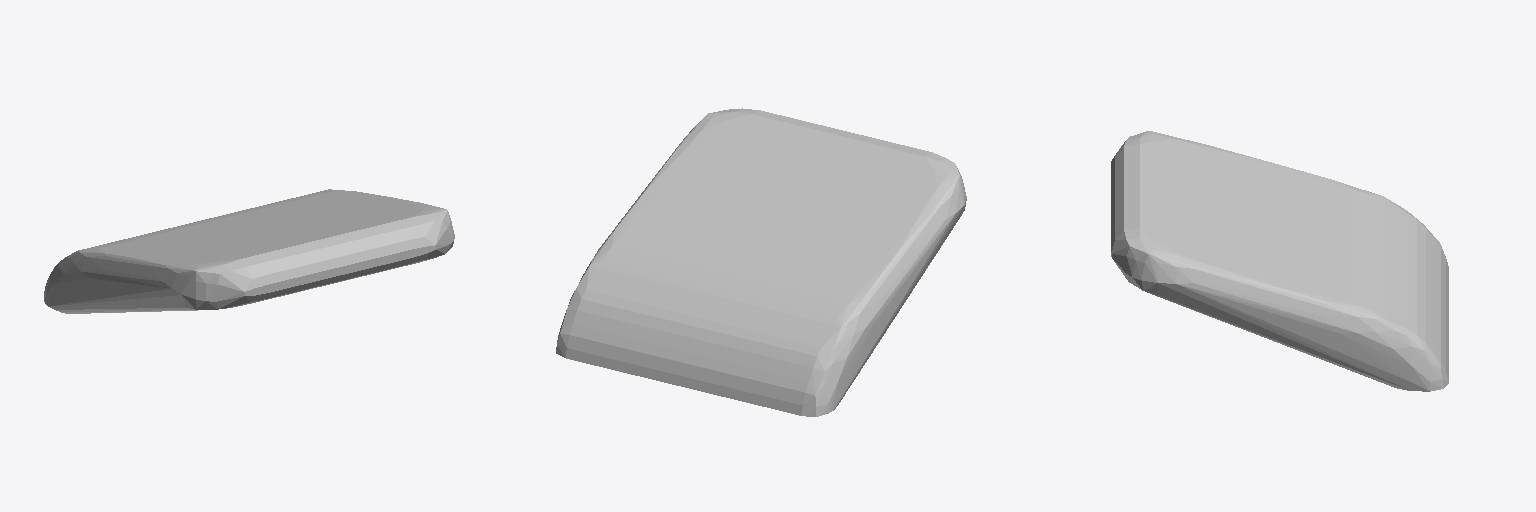
Rendered from Soap_Bottle_10_collision_1.obj.
The picture shows the model from 3 angles: view 1: azimuth 30°, elevation 25°; view 2: azimuth 150°, elevation 25°; view 3: azimuth 270°, elevation 25°; orthographic projection.
Bounding box in the file's own units: 0.0543 × 0.0263 × 0.0582.